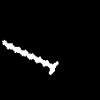half_double_crochet: (2, 40, 57, 74)
